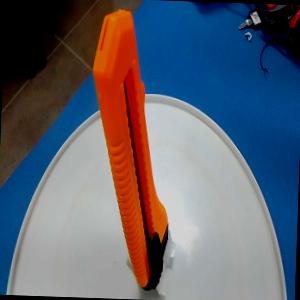estilete: (84, 7, 178, 294)
